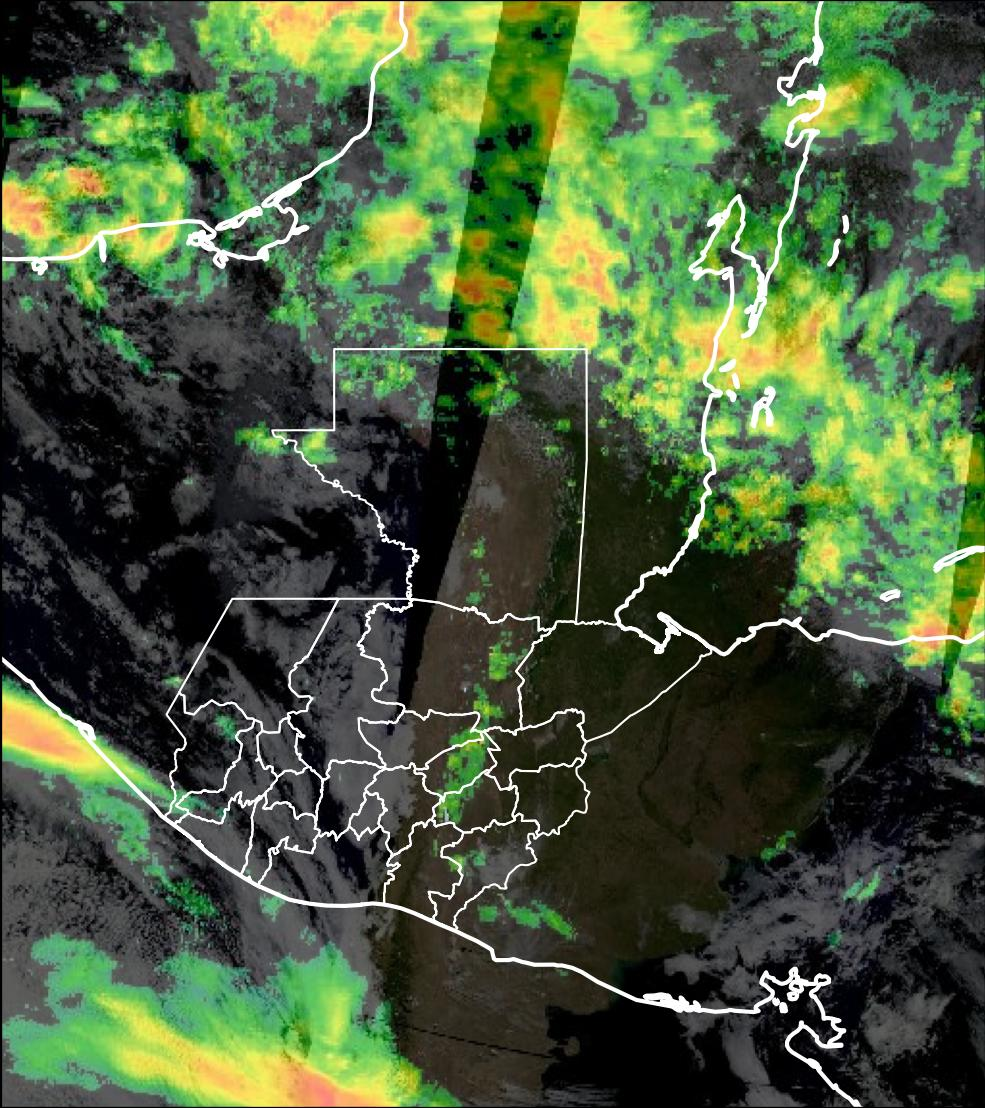precipitacion: (183, 1053, 394, 1108), (244, 1, 375, 70), (1, 174, 57, 245)
